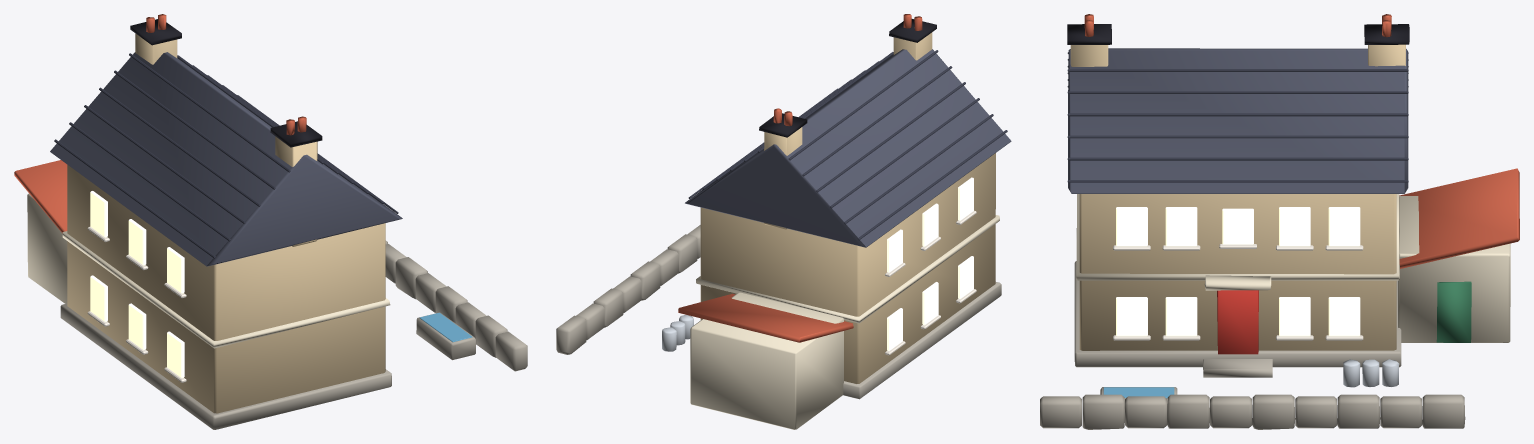
Rendered from farmhouse.glb.
3 views of the same model, side by side, from view 1: azimuth 30°, elevation 25°; view 2: azimuth 150°, elevation 25°; view 3: azimuth 270°, elevation 25° (orthographic). The views are drawn at different scales.
Visible parts, largest first — view 1: farmhouse; view 2: farmhouse; view 3: farmhouse.
Boxes of the visible parts, x1,y1,x2,y2 form: farmhouse: [14, 14, 527, 429]; farmhouse: [556, 14, 1011, 429]; farmhouse: [1040, 14, 1519, 429].
Size of the model in its own units: 10.66 by 9.44 by 13.54.
1 material, 1 textured.
